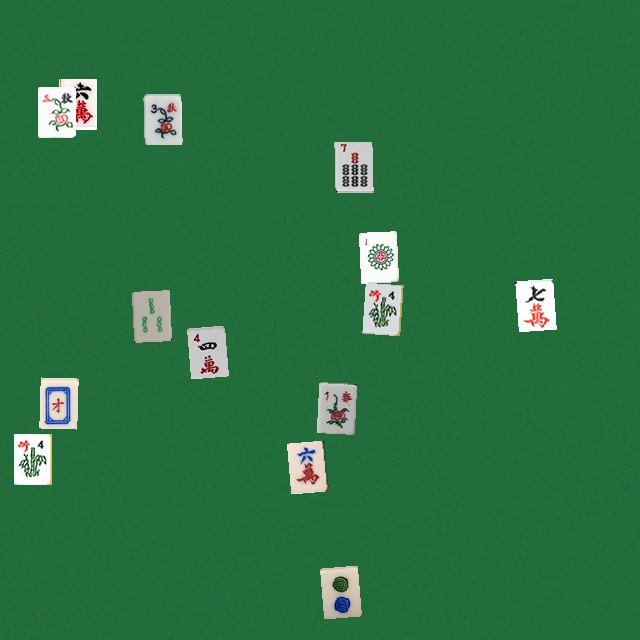tile: (286, 440, 324, 491), (131, 290, 169, 341), (515, 278, 553, 329), (362, 282, 400, 333), (143, 93, 181, 144), (58, 78, 96, 129), (334, 141, 372, 192), (319, 565, 357, 616), (37, 86, 75, 137), (358, 231, 396, 282), (316, 382, 354, 433), (13, 433, 51, 484), (39, 377, 77, 428), (186, 325, 224, 376)
